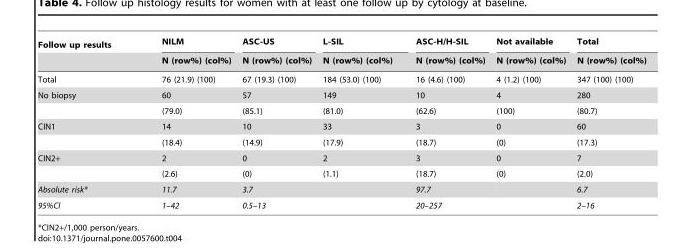table: (36, 36, 645, 209)
table column: (135, 36, 236, 209), (36, 36, 135, 209), (316, 36, 403, 209), (403, 36, 490, 209), (236, 36, 316, 209), (490, 36, 570, 209), (570, 36, 645, 209)
table column header: (36, 36, 645, 69)
table row: (36, 69, 645, 87), (36, 52, 645, 69), (36, 148, 645, 165), (36, 36, 645, 52), (36, 102, 645, 118), (36, 118, 645, 134), (36, 165, 645, 181), (36, 181, 645, 197), (36, 87, 645, 102), (36, 134, 645, 148), (36, 197, 645, 209)
table spanning cell: (135, 36, 236, 69), (36, 36, 135, 69), (36, 148, 135, 181), (36, 87, 135, 118), (36, 118, 135, 148), (316, 36, 403, 69), (403, 36, 490, 69), (236, 181, 403, 197), (236, 36, 316, 69), (490, 36, 570, 69), (570, 36, 645, 69), (236, 197, 403, 209)
